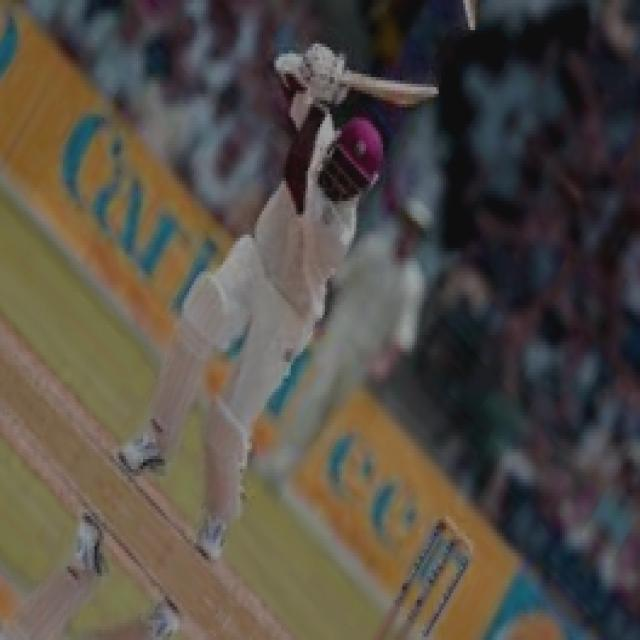toe: (387, 79, 437, 111)
